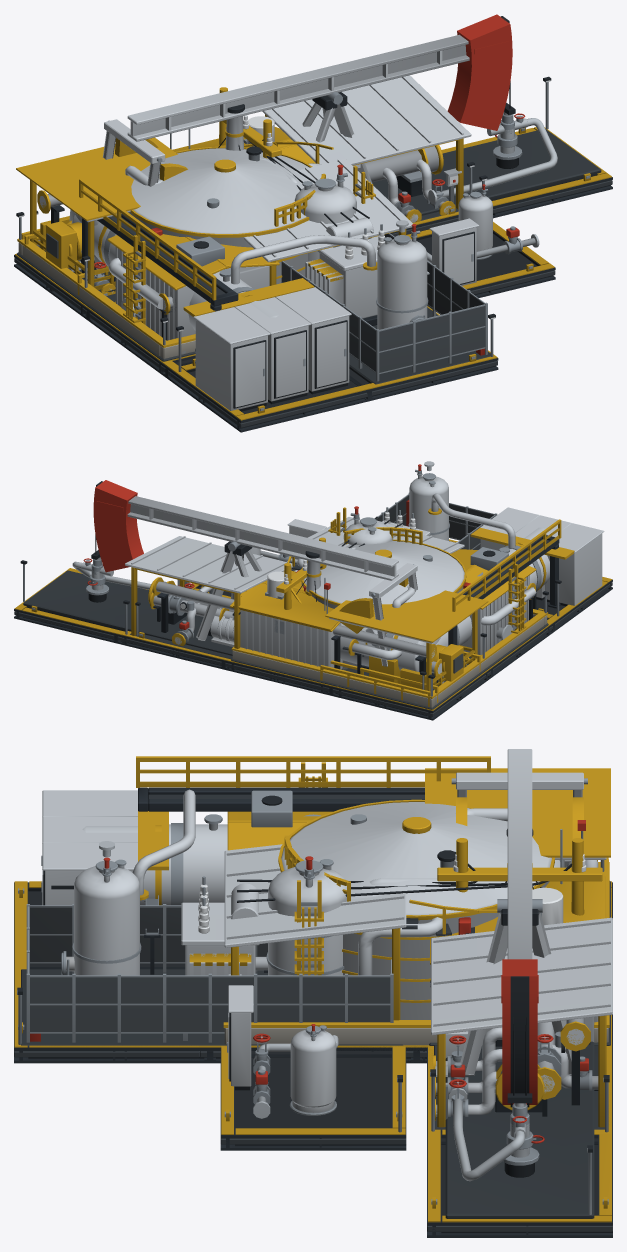
The model's file is pieces.glb.
3 renders of one model, top to bottom at view 1: azimuth 30°, elevation 25°; view 2: azimuth 150°, elevation 25°; view 3: azimuth 270°, elevation 25°, orthographic. The views are drawn at different scales.
Parts seen in each view (by area): view 1: piece_J, piece_I4, piece_L, piece_O, piece_S, piece_V, piece_Z, piece_T, piece_I3; view 2: piece_I4, piece_V, piece_O, piece_L, piece_J, piece_I3, piece_S, piece_Z, piece_T; view 3: piece_J, piece_I4, piece_L, piece_O, piece_S, piece_Z, piece_V, piece_T, piece_I3.
Boxes of the visible parts, x1=… form: piece_J: x1=171, y1=87, x2=490, y2=426; piece_I4: x1=24, y1=14, x2=612, y2=295; piece_L: x1=14, y1=178, x2=498, y2=432; piece_O: x1=14, y1=141, x2=333, y2=374; piece_S: x1=92, y1=75, x2=471, y2=370; piece_V: x1=16, y1=116, x2=315, y2=369; piece_Z: x1=46, y1=104, x2=555, y2=309; piece_T: x1=36, y1=129, x2=458, y2=295; piece_I3: x1=14, y1=145, x2=474, y2=317; piece_I4: x1=14, y1=480, x2=484, y2=717; piece_V: x1=231, y1=547, x2=549, y2=709; piece_O: x1=229, y1=527, x2=550, y2=719; piece_L: x1=336, y1=461, x2=612, y2=718; piece_J: x1=229, y1=492, x2=608, y2=691; piece_I3: x1=121, y1=577, x2=488, y2=720; piece_S: x1=123, y1=517, x2=548, y2=691; piece_Z: x1=188, y1=519, x2=463, y2=681; piece_T: x1=135, y1=506, x2=488, y2=693; piece_J: x1=21, y1=790, x2=612, y2=1063; piece_I4: x1=427, y1=749, x2=612, y2=1237; piece_L: x1=14, y1=756, x2=612, y2=1063; piece_O: x1=221, y1=799, x2=612, y2=1063; piece_S: x1=224, y1=844, x2=612, y2=1132; piece_Z: x1=220, y1=808, x2=612, y2=1150; piece_V: x1=227, y1=768, x2=610, y2=1046; piece_T: x1=221, y1=829, x2=604, y2=1134; piece_I3: x1=427, y1=857, x2=612, y2=1138.
Bounding box in the file's own units: 3.9 × 1.15 × 2.9.
